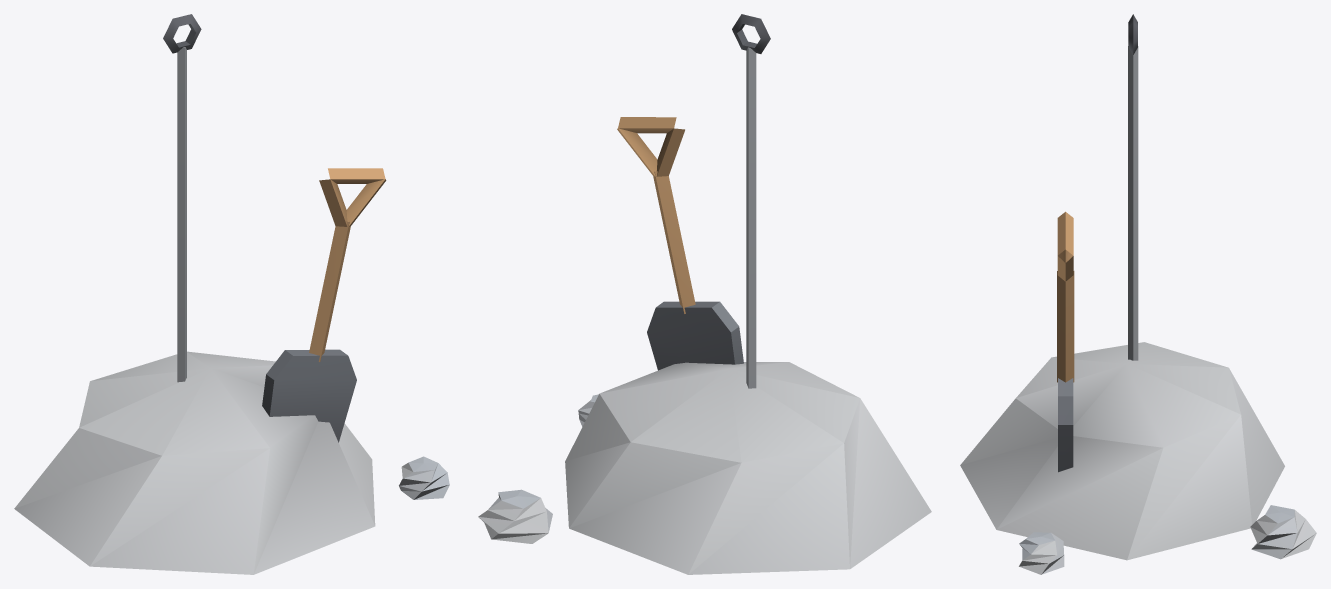
Rendered from probe.lod1.glb.
3 views of the same model, side by side, from view 1: azimuth 30°, elevation 25°; view 2: azimuth 150°, elevation 25°; view 3: azimuth 270°, elevation 25° (orthographic). The views are drawn at different scales.
Bounding box in the file's own units: 1.25 × 1.64 × 1.16.
